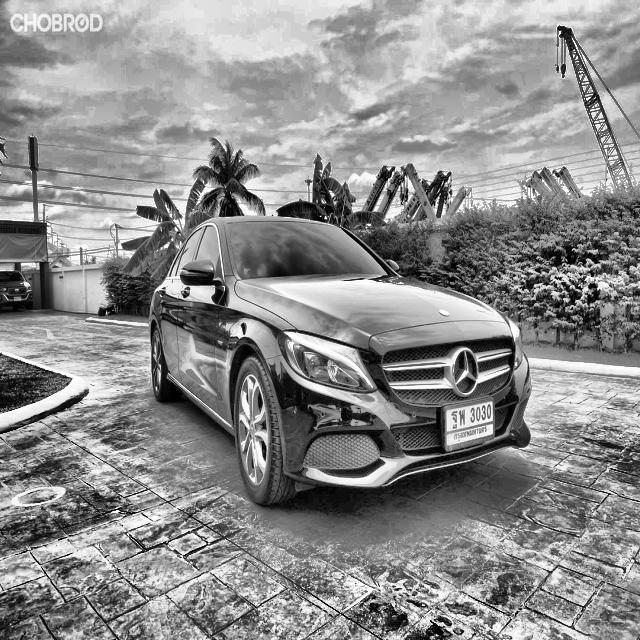license-plate: (442, 395, 496, 455)
